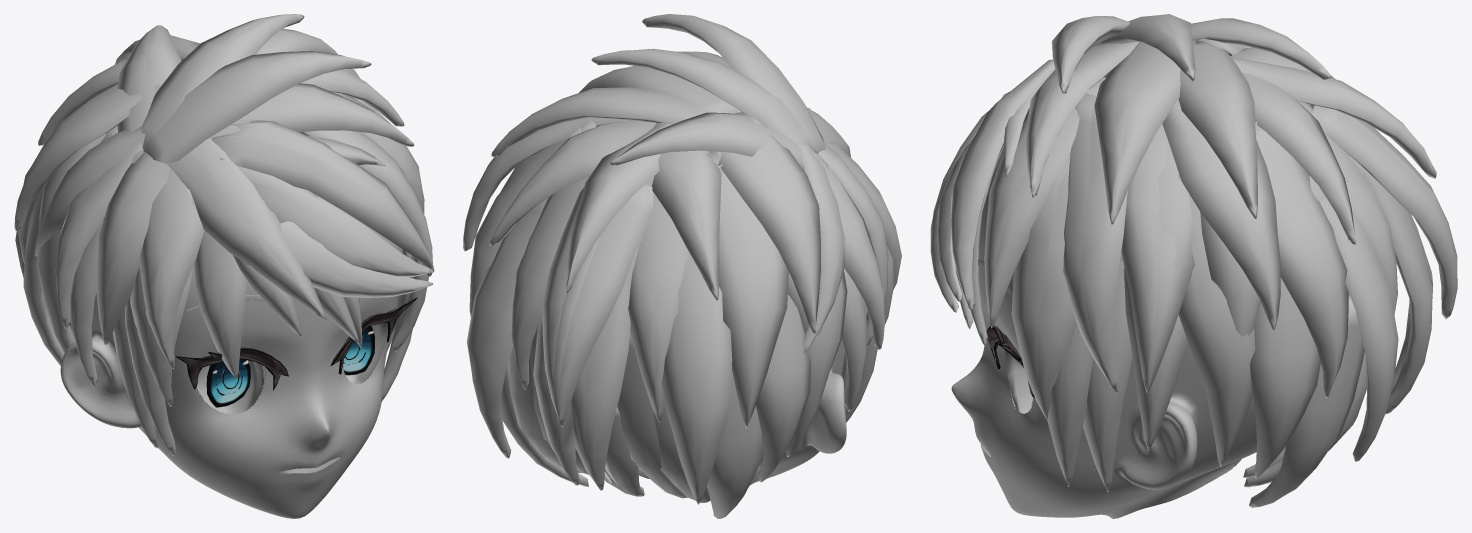
File: male_hair_messy 2.glb
The picture shows the model from 3 angles, left to right: view 1: azimuth 30°, elevation 25°; view 2: azimuth 150°, elevation 25°; view 3: azimuth 270°, elevation 25°; orthographic projection. The views are drawn at different scales.
Parts seen in each view (by area): view 1: face_0, hair_26, hair_29, hair_1, hair_35, hair_38, hair_27, hair_0, hair_7, hair_34, hair_2, hair_5 (+22 smaller); view 2: hair_17, hair_9, hair_10, hair_7, hair_21, hair_11, hair_12, hair_0, hair_18, hair_16, hair_3, hair_22 (+16 smaller); view 3: face_0, hair_9, hair_35, hair_7, hair_5, hair_24, hair_19, hair_4, hair_18, hair_3, hair_23, hair_17 (+23 smaller).
Boxes of the visible parts, left/top/right/bottom form: face_0: left=60, top=195, right=402, bottom=518; hair_26: left=211, top=120, right=434, bottom=270; hair_29: left=167, top=138, right=326, bottom=320; hair_1: left=145, top=51, right=371, bottom=164; hair_35: left=96, top=92, right=424, bottom=345; hair_38: left=139, top=168, right=204, bottom=369; hair_27: left=219, top=158, right=433, bottom=276; hair_0: left=141, top=14, right=304, bottom=152; hair_7: left=14, top=57, right=360, bottom=230; hair_34: left=194, top=230, right=246, bottom=379; hair_2: left=239, top=83, right=414, bottom=146; hair_5: left=55, top=98, right=391, bottom=328; hair_17: left=467, top=211, right=732, bottom=504; hair_9: left=469, top=117, right=788, bottom=427; hair_10: left=511, top=175, right=689, bottom=422; hair_7: left=463, top=112, right=820, bottom=334; hair_21: left=490, top=120, right=721, bottom=300; hair_11: left=542, top=184, right=653, bottom=427; hair_12: left=533, top=238, right=642, bottom=490; hair_0: left=591, top=48, right=818, bottom=153; hair_18: left=756, top=294, right=810, bottom=482; hair_16: left=501, top=358, right=763, bottom=518; hair_3: left=491, top=87, right=706, bottom=156; hair_22: left=566, top=123, right=672, bottom=294; face_0: left=951, top=76, right=1349, bottom=518; hair_9: left=1243, top=45, right=1348, bottom=398; hair_35: left=1063, top=46, right=1128, bottom=393; hair_7: left=1162, top=38, right=1280, bottom=330; hair_5: left=1121, top=129, right=1193, bottom=392; hair_24: left=1011, top=153, right=1076, bottom=421; hair_19: left=1177, top=174, right=1255, bottom=466; hair_4: left=1094, top=39, right=1197, bottom=224; hair_18: left=1250, top=277, right=1320, bottom=478; hair_3: left=1178, top=40, right=1257, bottom=218; hair_23: left=984, top=77, right=1105, bottom=327; hair_17: left=1320, top=198, right=1398, bottom=462.
Size of the model in its own units: 0.3039 by 0.3543 by 0.3396.
Materials: 46 (2 with a texture image).
